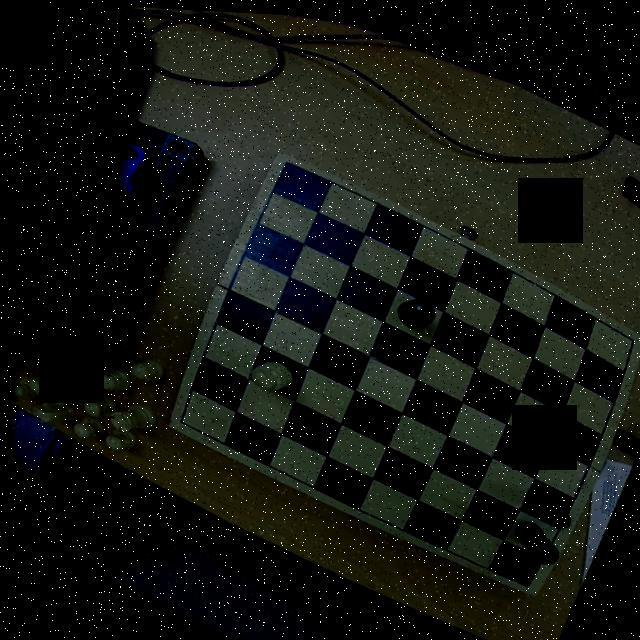chess-table-corners: (270, 146, 304, 178), (163, 401, 196, 431), (504, 564, 539, 591), (616, 322, 640, 350)
